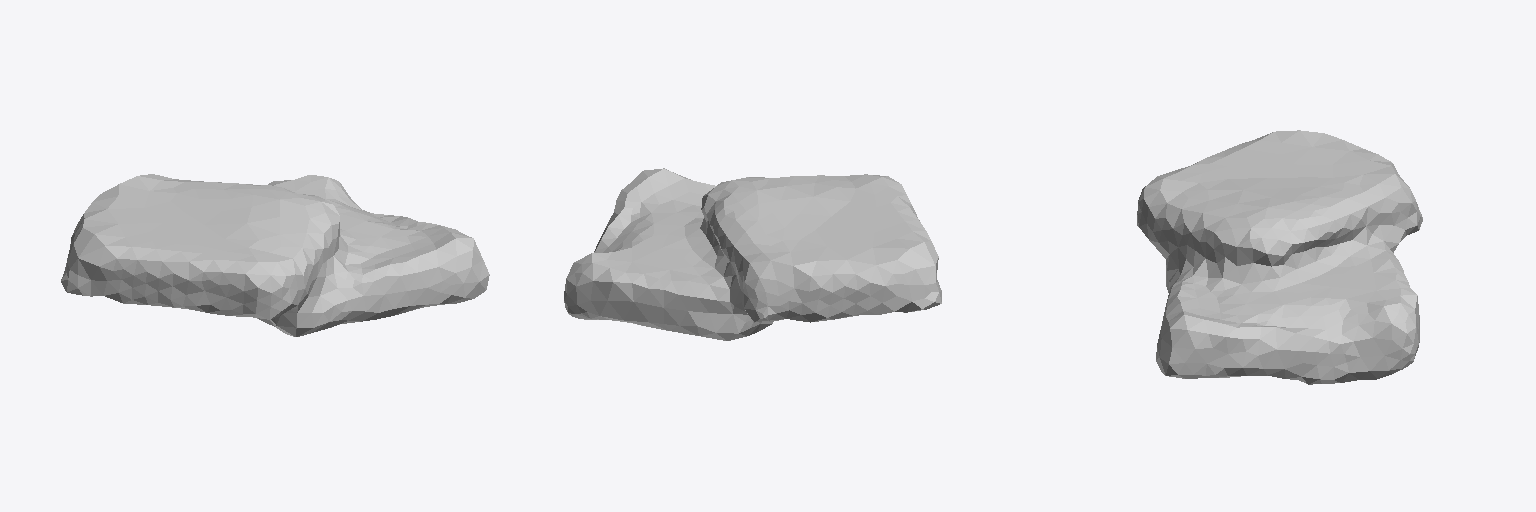
Rendered from plataforma_1.obj.
3 views of the same model, side by side, from view 1: azimuth 30°, elevation 25°; view 2: azimuth 150°, elevation 25°; view 3: azimuth 270°, elevation 25° (orthographic).
Visible parts, largest first — view 1: StonePlatform_C:Stone_C; view 2: StonePlatform_C:Stone_C; view 3: StonePlatform_C:Stone_C.
Part boxes in pixels (x1,y1,x2,y2): StonePlatform_C:Stone_C: (61,174,489,336); StonePlatform_C:Stone_C: (564,168,941,340); StonePlatform_C:Stone_C: (1137,130,1422,384).
Size of the model in its own units: 2.65 by 0.7934 by 1.81.